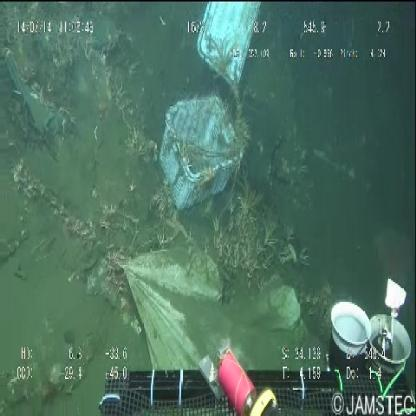Rov: (86, 259, 416, 416)
Rác: (156, 1, 270, 212)
